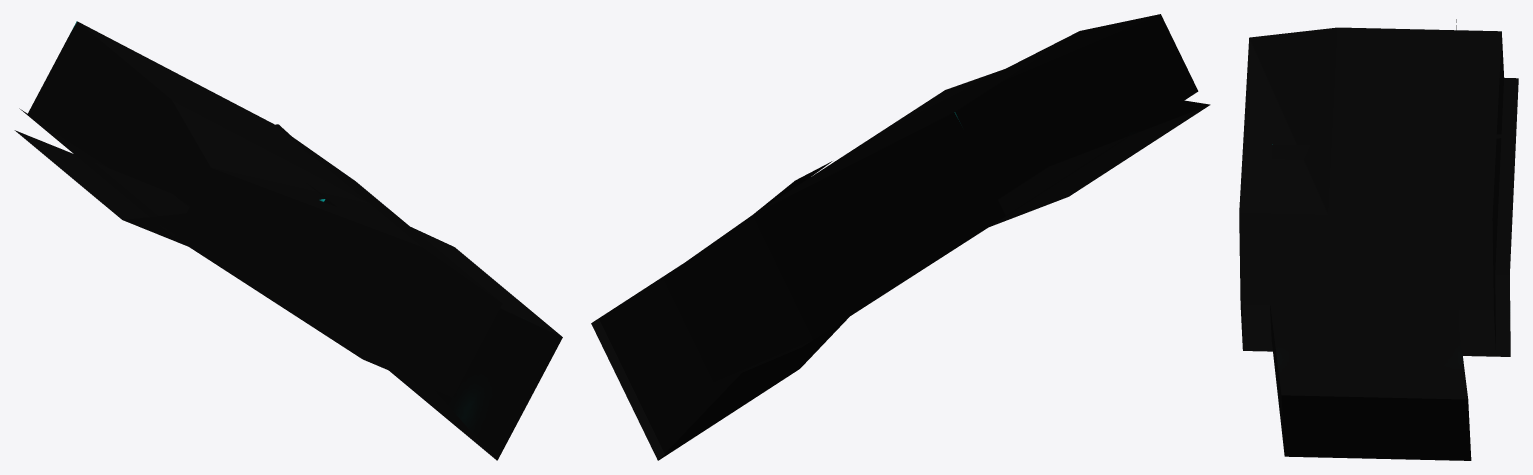
File: float_L_arm.obj
The picture shows the model from 3 angles, left to right: view 1: azimuth 30°, elevation 25°; view 2: azimuth 150°, elevation 25°; view 3: azimuth 270°, elevation 25°; orthographic projection. The views are drawn at different scales.
Parts seen in each view (by area): view 1: 立方体.001; view 2: 立方体.001; view 3: 立方体.001.
Part boxes in pixels (left/top/right/bottom): 立方体.001: left=14, top=21, right=562, bottom=460; 立方体.001: left=591, top=14, right=1210, bottom=460; 立方体.001: left=1239, top=19, right=1518, bottom=460.
Bounding box in the file's own units: 0.7517 × 0.651 × 0.5159.
Materials: 1 (1 with a texture image).
